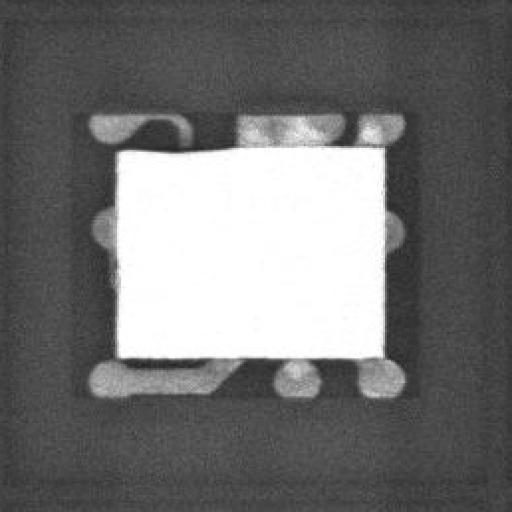DIE_BROKEN: (115, 138, 234, 154)
